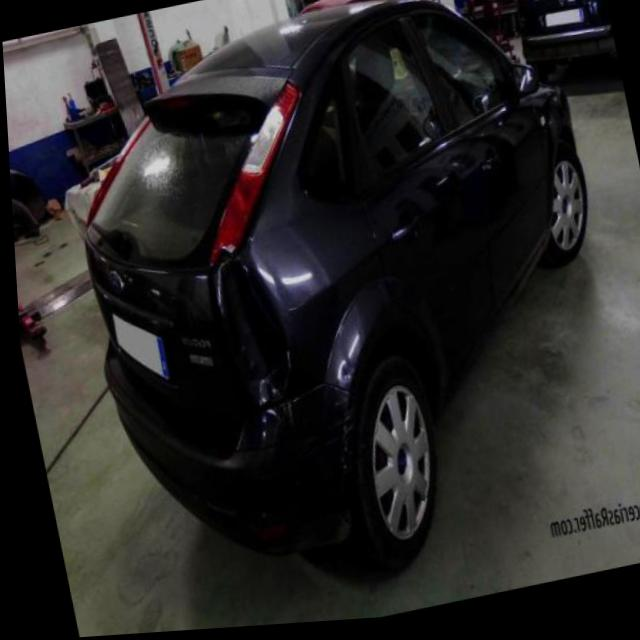Car-Damage: (197, 243, 294, 418), (276, 392, 362, 492), (332, 362, 349, 387)
